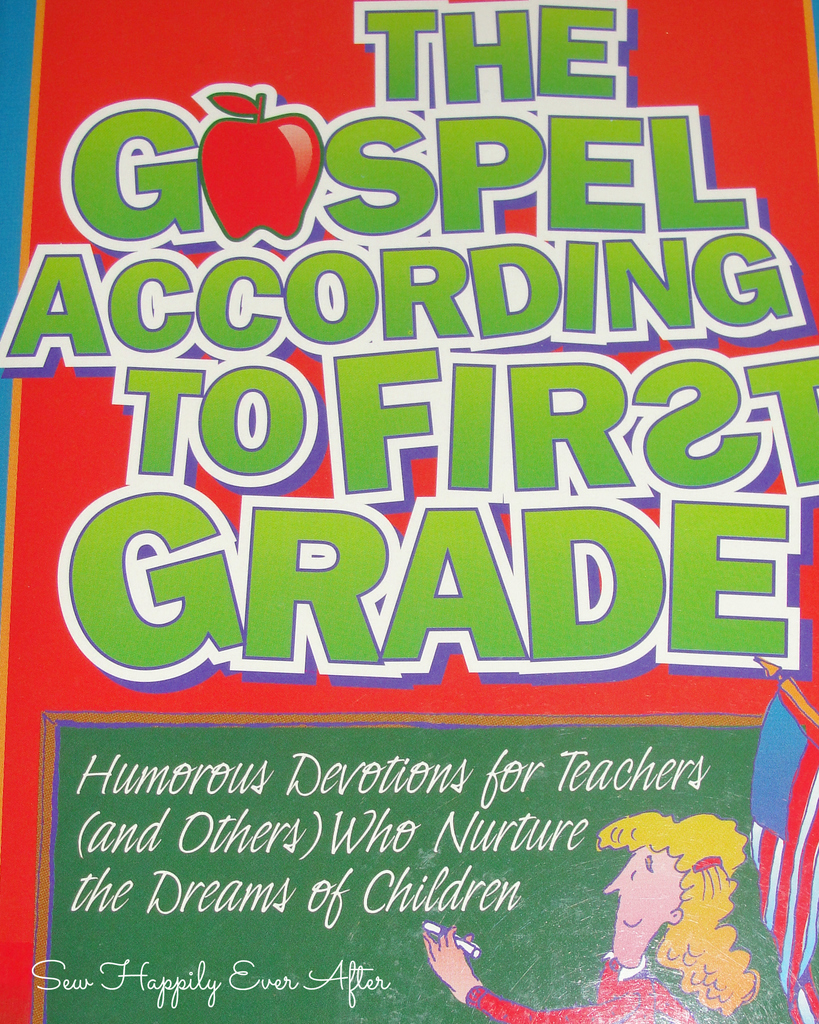Apple: (197, 88, 325, 241)
